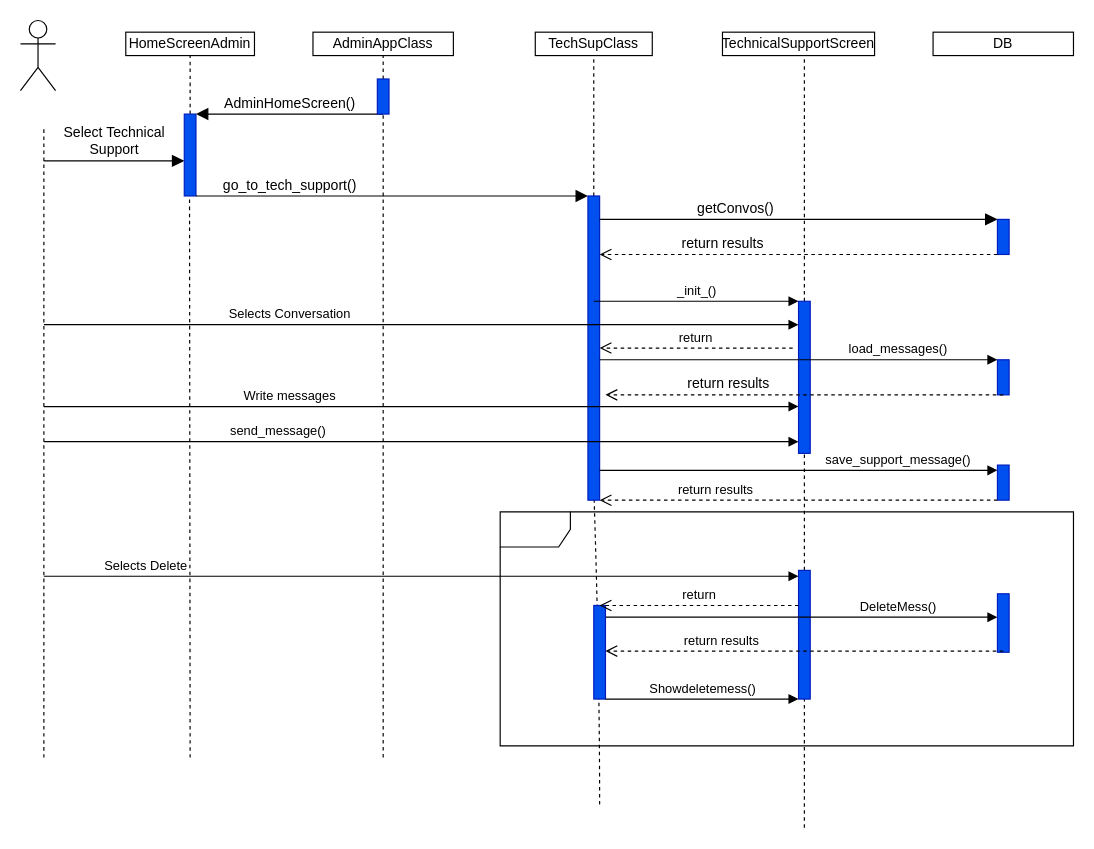
The diagram is 1094 pixels wide and 849 high, and some of its shapes have lost their labels. Here are the shapes that lost their labels. From the top down, the box of each, then its label:
(19, 19, 56, 91): Actor
(499, 511, 1073, 746): alt
